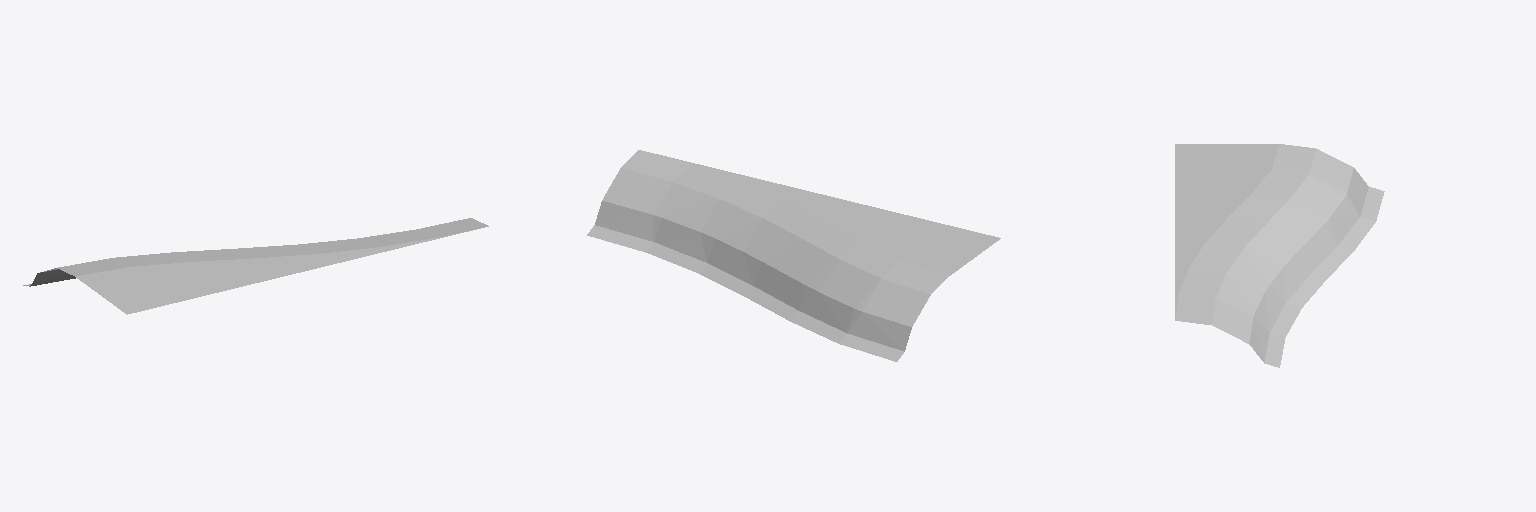
Rendered from Track_Normal_Esse_2x4.obj.
The picture shows the model from 3 angles: view 1: azimuth 30°, elevation 25°; view 2: azimuth 150°, elevation 25°; view 3: azimuth 270°, elevation 25°; orthographic projection.
Visible parts, largest first — view 1: object1; view 2: object1; view 3: object1.
Part boxes in pixels (x1,y1,x2,y2): object1: (23, 218, 488, 314); object1: (587, 150, 1000, 361); object1: (1175, 144, 1384, 367).
Size of the model in its own units: 4 by 0.5 by 2.